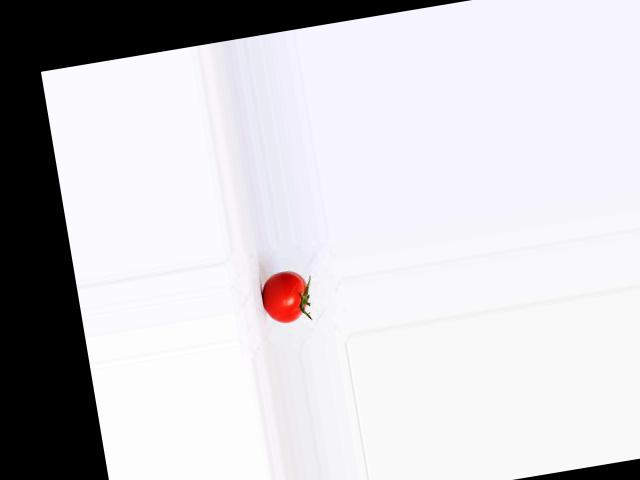tomato: (258, 267, 311, 325)
